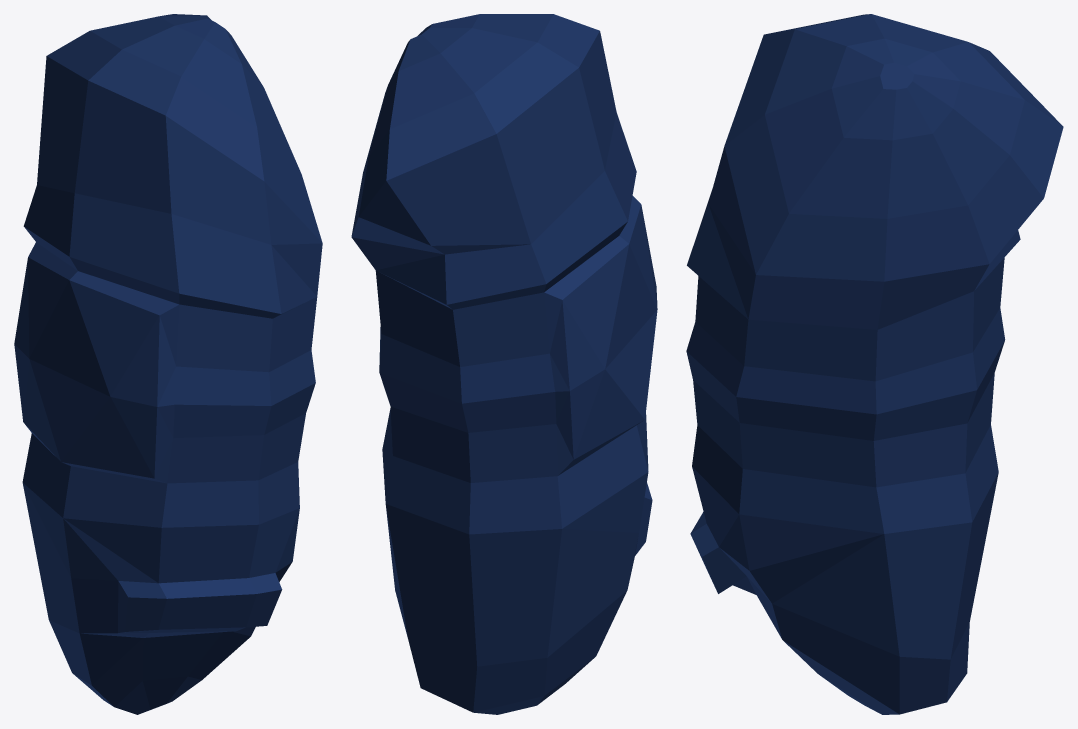
File: right_thigh.fbx
3 renders of one model, left to right at view 1: azimuth 30°, elevation 25°; view 2: azimuth 150°, elevation 25°; view 3: azimuth 270°, elevation 25°, orthographic.
Parts seen in each view (by area): view 1: right_leg_thigh; view 2: right_leg_thigh; view 3: right_leg_thigh.
Part boxes in pixels (<box>): right_leg_thigh: <box>14,14,322,714</box>; right_leg_thigh: <box>351,14,657,714</box>; right_leg_thigh: <box>686,14,1063,714</box>.
Size of the model in its own units: 0.1984 by 0.5276 by 0.2663.
